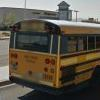Bus: (9, 16, 98, 94)
